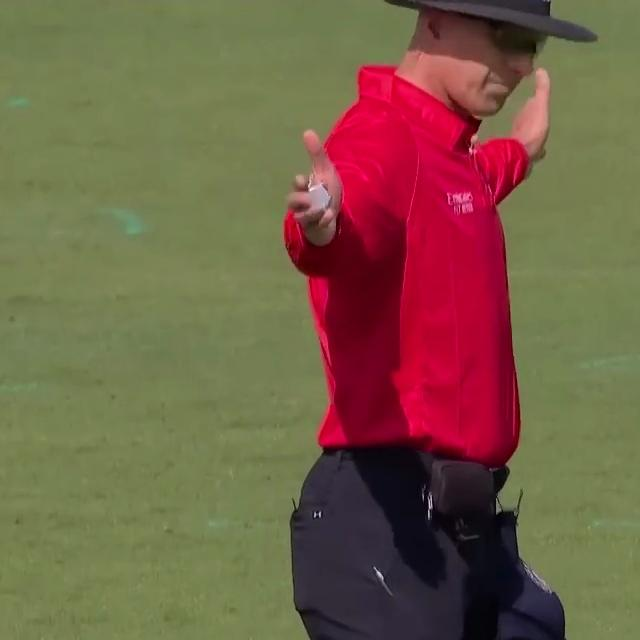umpire: (246, 0, 628, 640)
